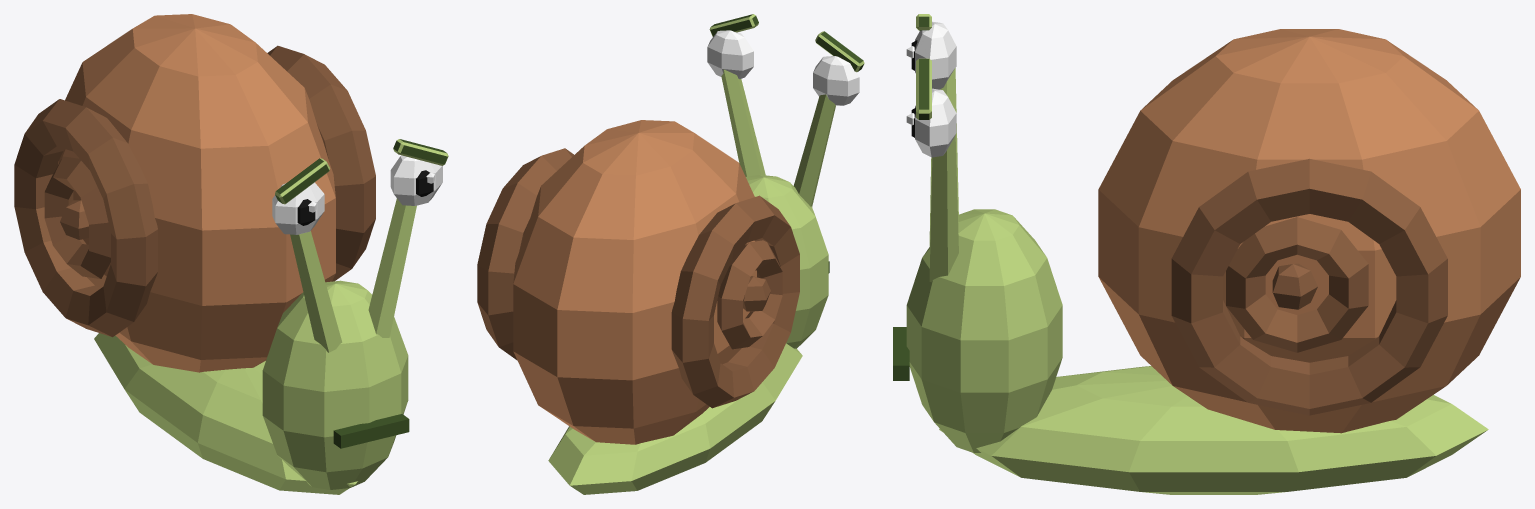
The model's file is schnecke.glb.
3 renders of one model, left to right at view 1: azimuth 30°, elevation 25°; view 2: azimuth 150°, elevation 25°; view 3: azimuth 270°, elevation 25°, orthographic. The views are drawn at different scales.
Parts seen in each view (by area): view 1: body-m; view 2: body-m; view 3: body-m.
Boxes of the visible parts, x1,y1,x2,y2 form: body-m: (14, 14, 448, 494); body-m: (477, 14, 864, 494); body-m: (893, 14, 1520, 494).
Bounding box in the file's own units: 0.8941 × 1.18 × 1.51.
